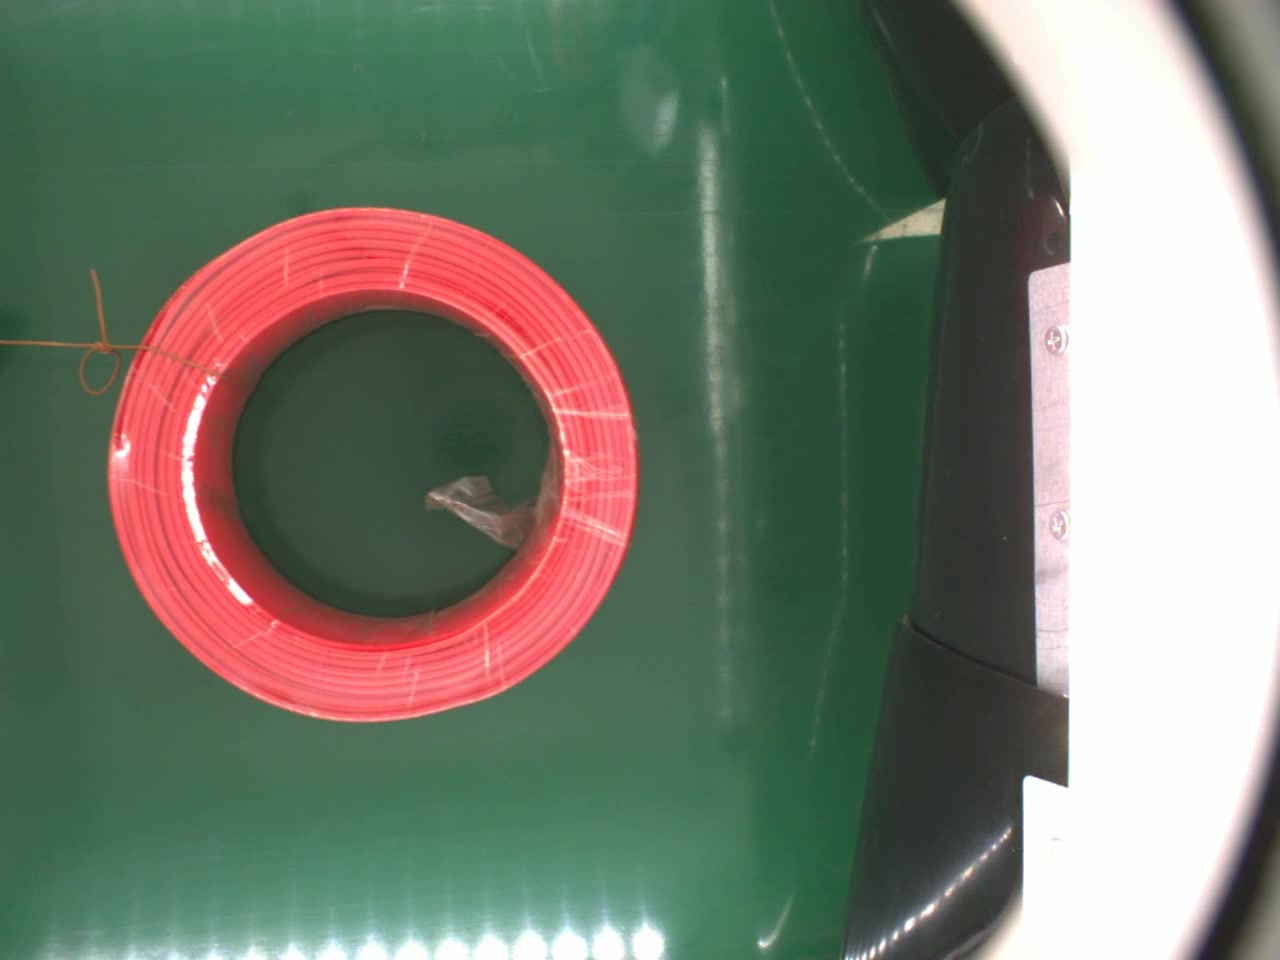red: (102, 202, 642, 730)
